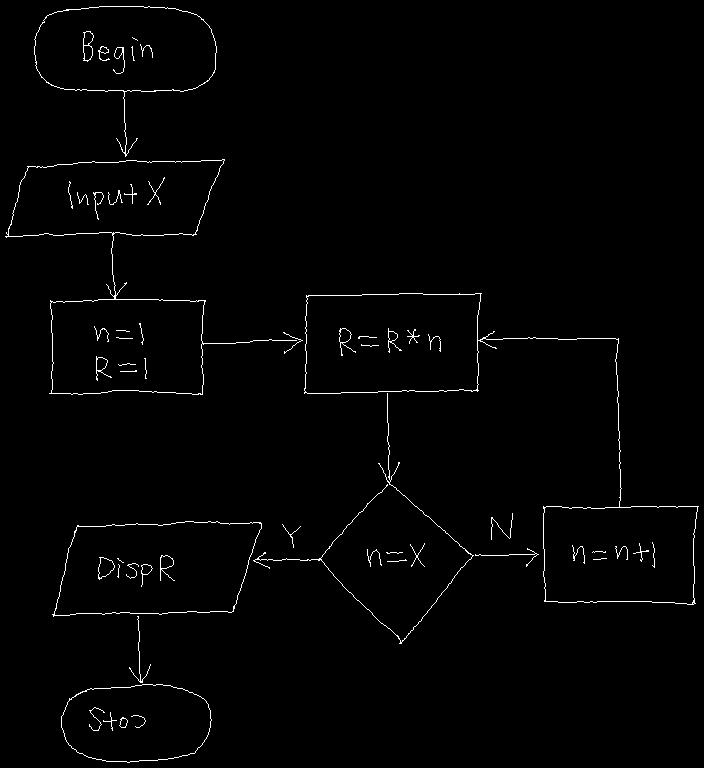arrow: (478, 331, 621, 507), (202, 332, 302, 353), (378, 393, 399, 483), (116, 90, 137, 156), (129, 616, 150, 682), (106, 232, 126, 299), (475, 548, 538, 566), (253, 552, 321, 568)
data: (52, 521, 261, 616), (5, 159, 224, 237)
decision: (319, 483, 473, 643)
process: (304, 293, 481, 393), (543, 506, 698, 604), (49, 299, 205, 394)
terminator: (34, 6, 216, 91), (61, 684, 211, 762)
text: (68, 177, 164, 219), (94, 323, 146, 380), (83, 31, 152, 73), (339, 328, 440, 355), (98, 555, 174, 586), (572, 542, 654, 567), (367, 543, 424, 566), (89, 707, 145, 730), (491, 513, 512, 539), (282, 524, 300, 547)
